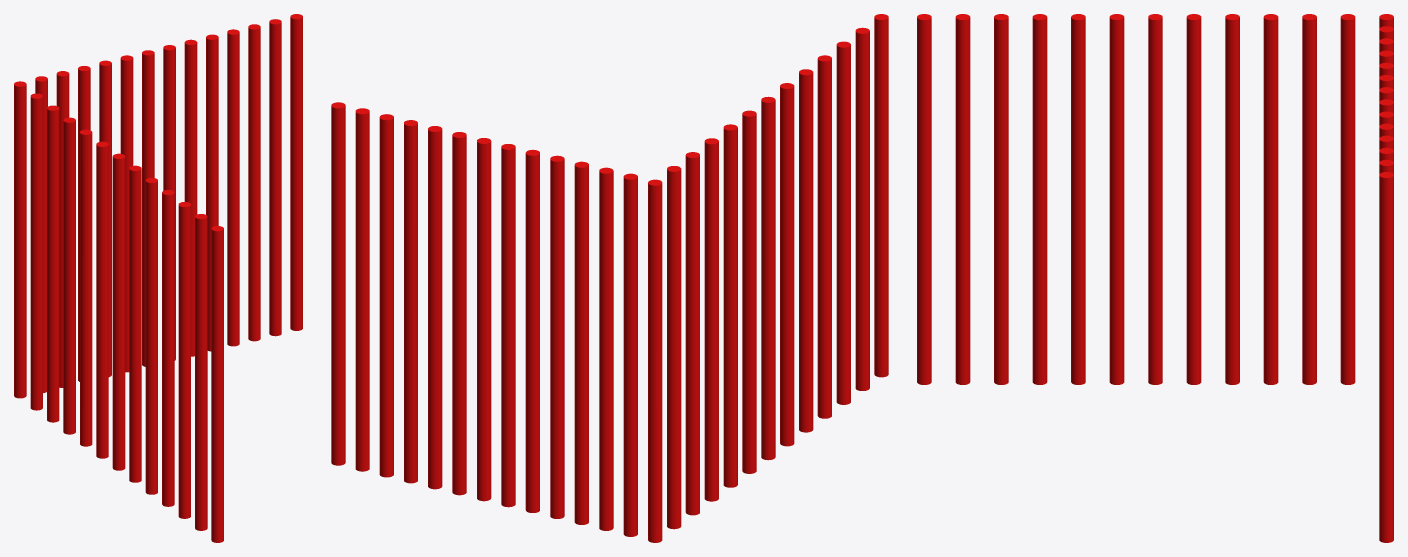
The model's file is cage.FBX.
3 views of the same model, side by side, from view 1: azimuth 30°, elevation 25°; view 2: azimuth 150°, elevation 25°; view 3: azimuth 270°, elevation 25° (orthographic). The views are drawn at different scales.
Visible parts, largest first — view 1: Cylinder011, Cylinder005, Cylinder006, Cylinder007, Cylinder008, Cylinder010, Cylinder027, Cylinder028, Cylinder009, Cylinder012, Cylinder013, Cylinder029 (+14 smaller); view 2: Cylinder029, Cylinder030, Cylinder009, Cylinder015, Cylinder007, Cylinder005, Cylinder012, Cylinder014, Cylinder028, Cylinder008, Cylinder013, Cylinder018 (+14 smaller); view 3: Cylinder010, Cylinder012, Cylinder006, Cylinder008, Cylinder014, Cylinder016, Cylinder007, Cylinder009, Cylinder011, Cylinder013, Cylinder015, Cylinder017 (+1 smaller).
Part boxes in pixels (<box>): Cylinder011: <box>112,153,125,470</box>; Cylinder005: <box>14,81,26,398</box>; Cylinder006: <box>30,93,42,410</box>; Cylinder007: <box>47,105,59,422</box>; Cylinder008: <box>63,117,75,434</box>; Cylinder010: <box>96,141,108,458</box>; Cylinder027: <box>227,29,239,346</box>; Cylinder028: <box>248,24,260,341</box>; Cylinder009: <box>80,129,92,446</box>; Cylinder012: <box>129,165,141,482</box>; Cylinder013: <box>145,177,157,494</box>; Cylinder029: <box>269,19,281,336</box>; Cylinder029: <box>355,108,369,471</box>; Cylinder030: <box>331,102,345,465</box>; Cylinder009: <box>723,124,737,487</box>; Cylinder015: <box>836,41,850,404</box>; Cylinder007: <box>685,152,699,515</box>; Cylinder005: <box>648,179,662,542</box>; Cylinder012: <box>780,83,794,446</box>; Cylinder014: <box>817,55,831,418</box>; Cylinder028: <box>379,114,393,477</box>; Cylinder008: <box>704,138,718,501</box>; Cylinder013: <box>799,69,813,432</box>; Cylinder018: <box>623,173,637,536</box>; Cylinder010: <box>1186,14,1201,384</box>; Cylinder012: <box>1109,14,1124,384</box>; Cylinder006: <box>1340,14,1355,384</box>; Cylinder008: <box>1263,14,1278,384</box>; Cylinder014: <box>1032,14,1047,384</box>; Cylinder016: <box>955,14,970,384</box>; Cylinder007: <box>1302,14,1316,384</box>; Cylinder009: <box>1225,14,1239,384</box>; Cylinder011: <box>1148,14,1162,384</box>; Cylinder013: <box>1071,14,1085,384</box>; Cylinder015: <box>994,14,1008,384</box>; Cylinder017: <box>917,14,931,384</box>.
Bounding box in the file's own units: 260 × 270 × 320.
